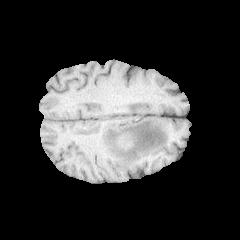glioma: (95, 116, 173, 170)
